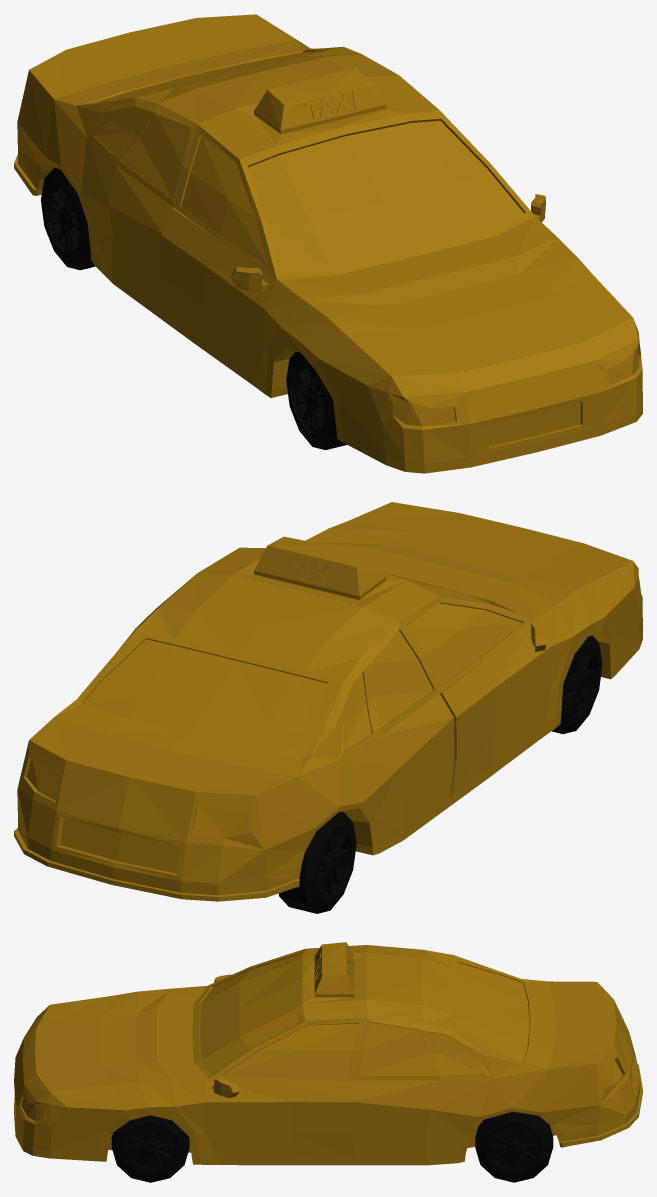
File: taxi_3.glb
3 renders of one model, top to bottom at view 1: azimuth 30°, elevation 25°; view 2: azimuth 150°, elevation 25°; view 3: azimuth 270°, elevation 25°, orthographic. The views are drawn at different scales.
Visible parts, largest first — view 1: Taxi_Cube.009, Taxi_BackWheels_Cube.010, Taxi_FrontRightWheel_Cube.014; view 2: Taxi_Cube.009, Taxi_BackWheels_Cube.010, Taxi_FrontRightWheel_Cube.014; view 3: Taxi_Cube.009, Taxi_BackWheels_Cube.010, Taxi_FrontLeftWheel_Cube.013.
Part boxes in pixels (<box>): Taxi_Cube.009: <box>14,14,642,473</box>; Taxi_BackWheels_Cube.010: <box>41,168,95,270</box>; Taxi_FrontRightWheel_Cube.014: <box>286,351,346,450</box>; Taxi_Cube.009: <box>14,502,642,901</box>; Taxi_BackWheels_Cube.010: <box>278,811,356,913</box>; Taxi_FrontRightWheel_Cube.014: <box>552,635,602,733</box>; Taxi_Cube.009: <box>14,942,642,1165</box>; Taxi_BackWheels_Cube.010: <box>475,1111,553,1182</box>; Taxi_FrontLeftWheel_Cube.013: <box>111,1115,189,1182</box>.
Size of the model in its own units: 1.81 by 1.31 by 4.22.
